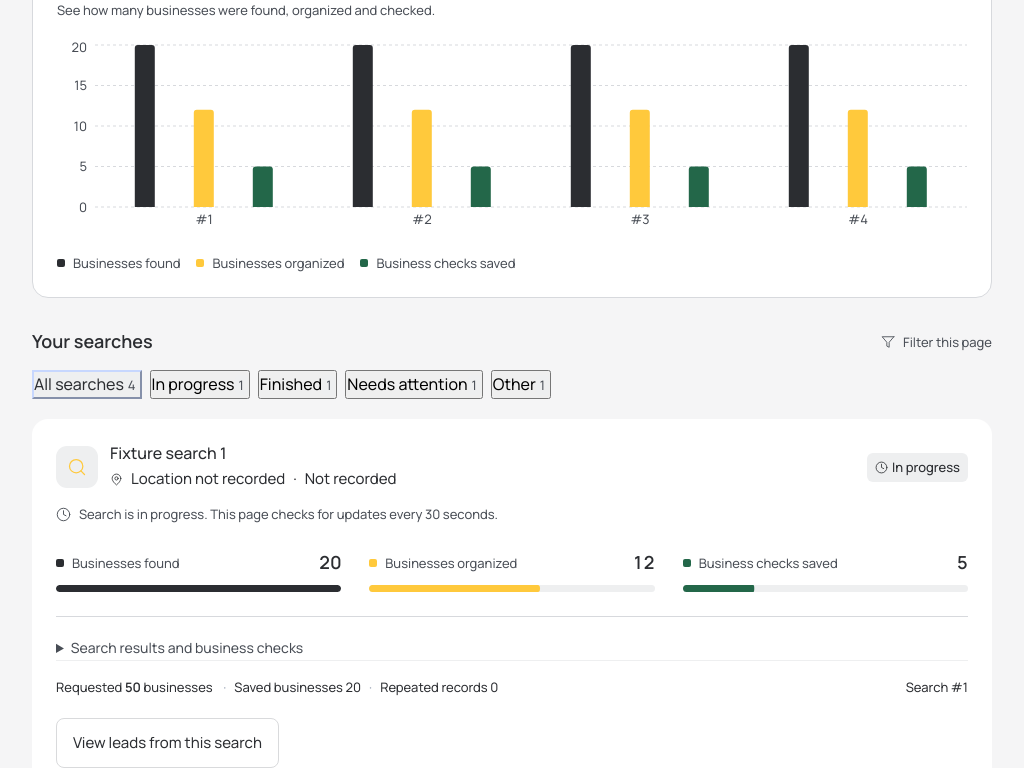
Test: charts are explicitly page-scoped and filtering does not change totals
(page scrolled)
Click the button "Needs attention1" at (414, 384), box left=345, top=370, right=483, bottom=399
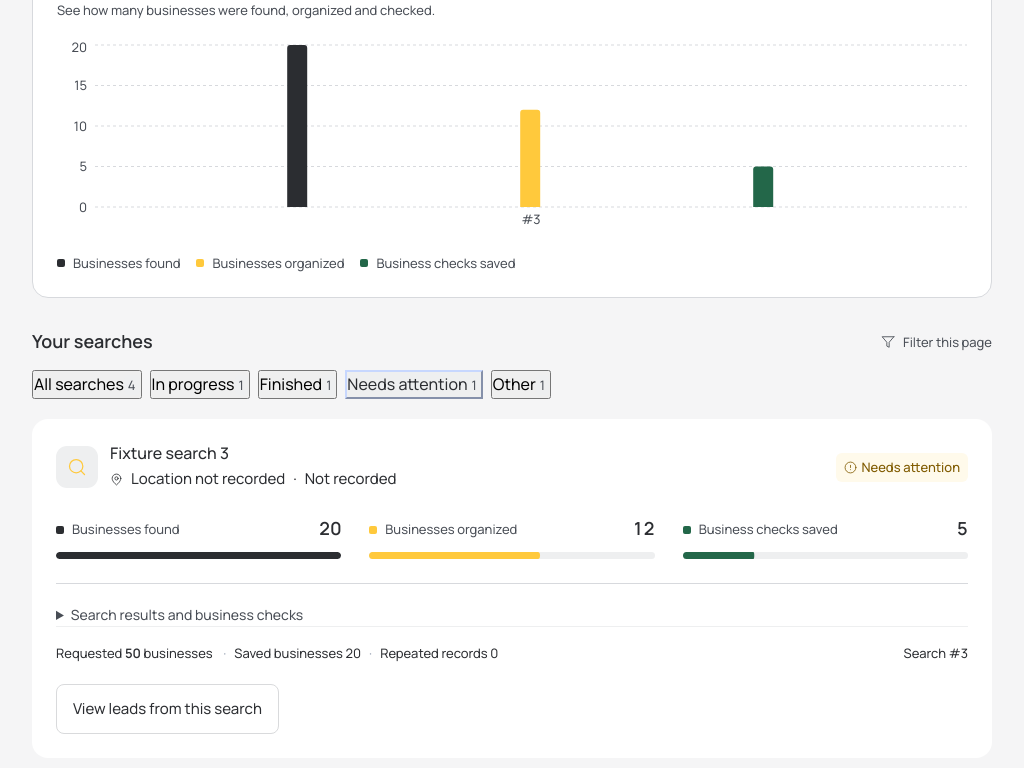
Expected: the element with class "sp-job" shows "Fixture search 3", left=110, top=442, right=229, bottom=464
Result: the number of elements with class "sp-job" is 1 at left=32, top=419, right=992, bottom=758
